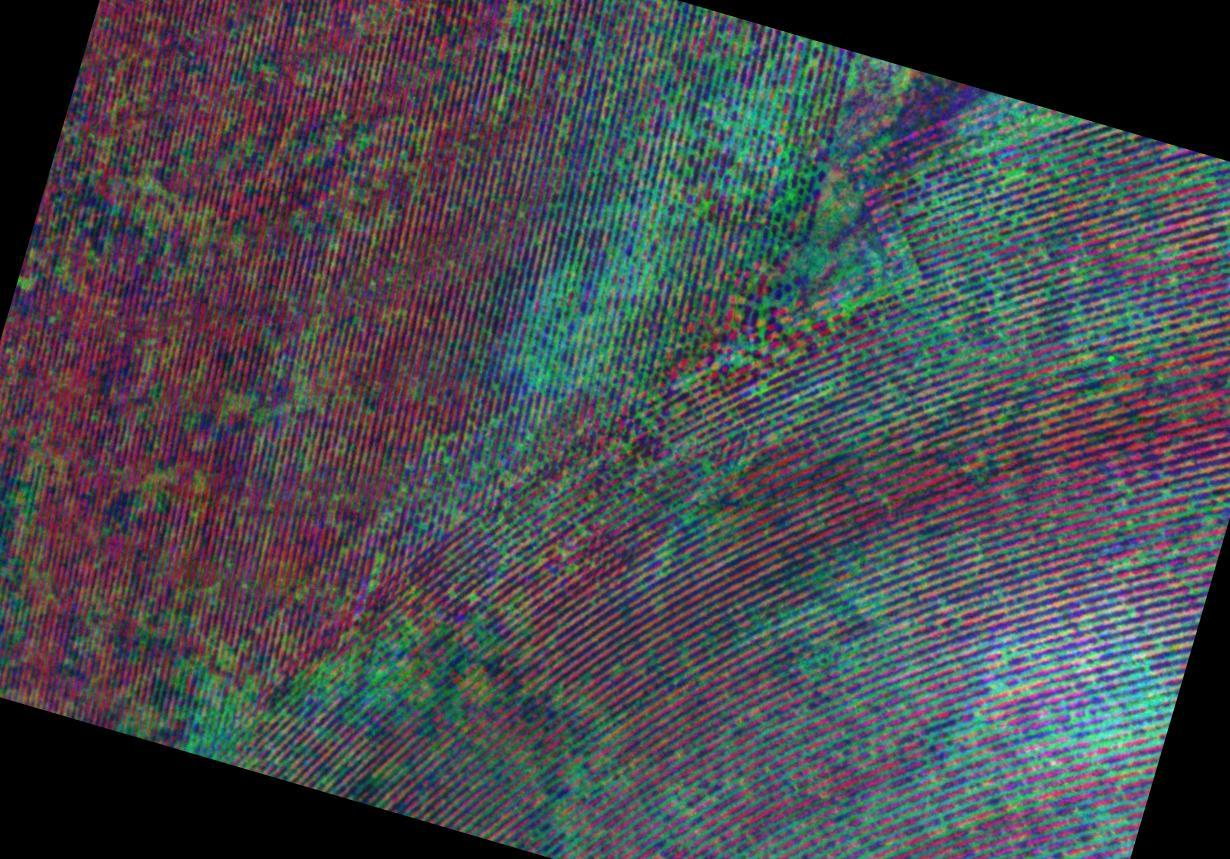dc: (696, 95, 789, 203), (531, 280, 610, 378), (1091, 663, 1170, 757), (971, 90, 1044, 187), (186, 663, 255, 751)
